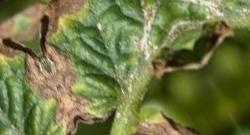Tomato Early blight leaf: (4, 0, 200, 131)
